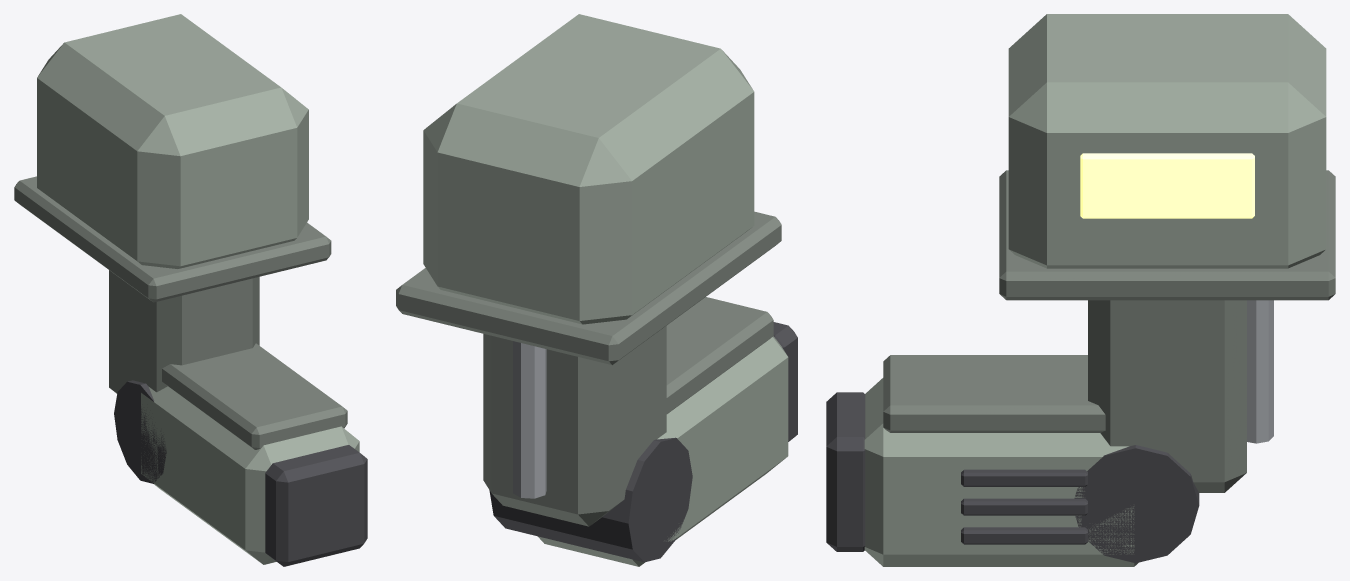
Rendered from medium-armL.glb.
3 views of the same model, side by side, from view 1: azimuth 30°, elevation 25°; view 2: azimuth 150°, elevation 25°; view 3: azimuth 270°, elevation 25° (orthographic). The views are drawn at different scales.
Visible parts, largest first — view 1: armL, joint.forearm, joint.pivot; view 2: armL, joint.pivot, joint.forearm; view 3: armL, joint.forearm, joint.pivot.
Boxes of the visible parts, x1,y1,x2,y2 form: armL: [14, 14, 331, 302]; joint.forearm: [141, 343, 367, 566]; joint.pivot: [109, 270, 259, 483]; armL: [396, 14, 781, 365]; joint.pivot: [483, 326, 692, 562]; joint.forearm: [538, 297, 797, 566]; armL: [999, 14, 1335, 300]; joint.forearm: [826, 355, 1138, 566]; joint.pivot: [1074, 300, 1273, 563].
Size of the model in its own units: 0.8 by 1.7 by 1.6.
